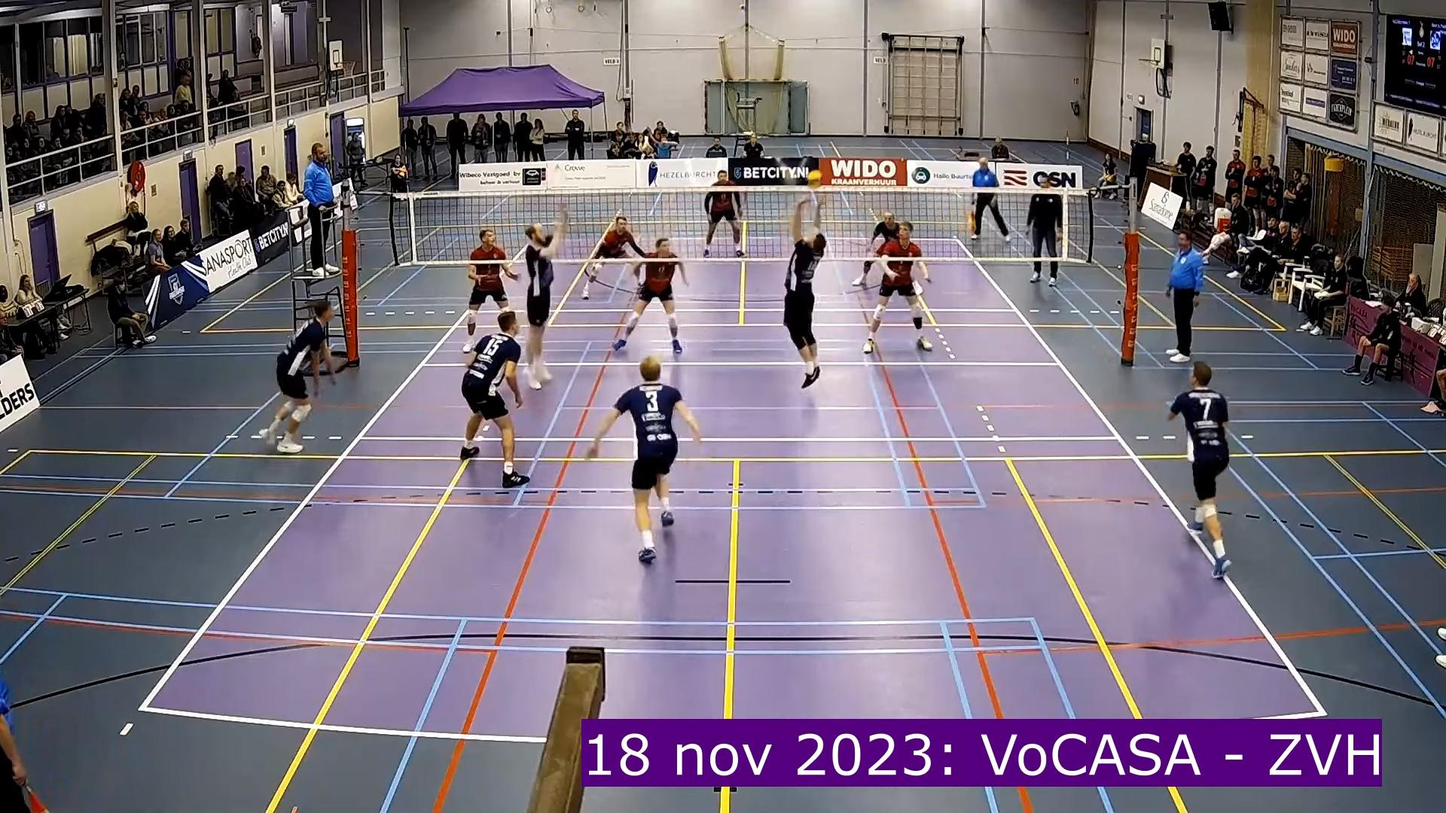Player: (586, 356, 700, 563), (1170, 362, 1231, 578), (460, 310, 529, 488), (265, 301, 337, 453), (863, 221, 932, 353), (613, 238, 686, 353), (524, 207, 566, 388), (463, 228, 517, 352), (581, 215, 644, 299), (703, 170, 743, 257), (867, 212, 898, 251)
Set: (772, 194, 837, 392)
ball: (806, 170, 822, 184)
